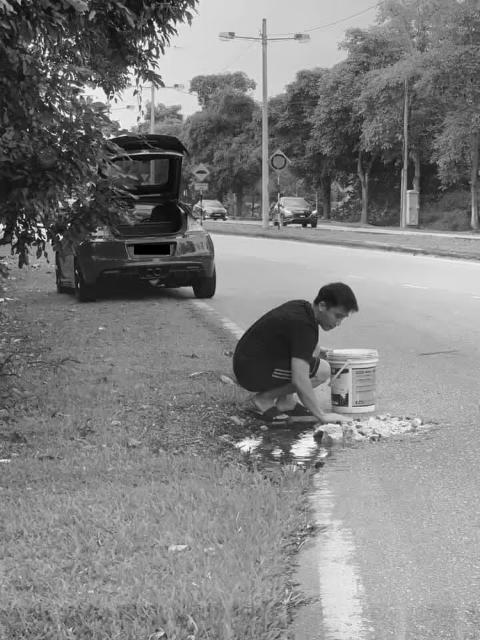Pothole: (214, 412, 342, 474)
